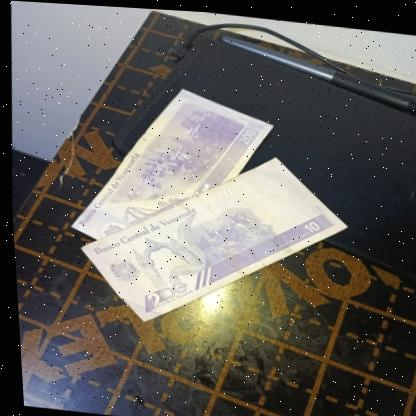ten-back-vef: (67, 132, 354, 340)
two_hundred-back-vef: (60, 74, 280, 257)
